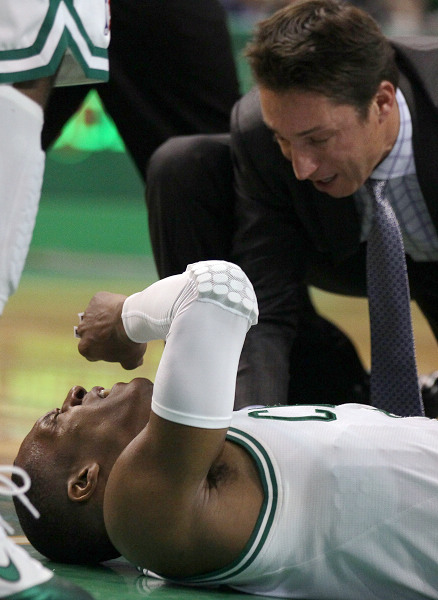fall: (9, 251, 438, 592)
